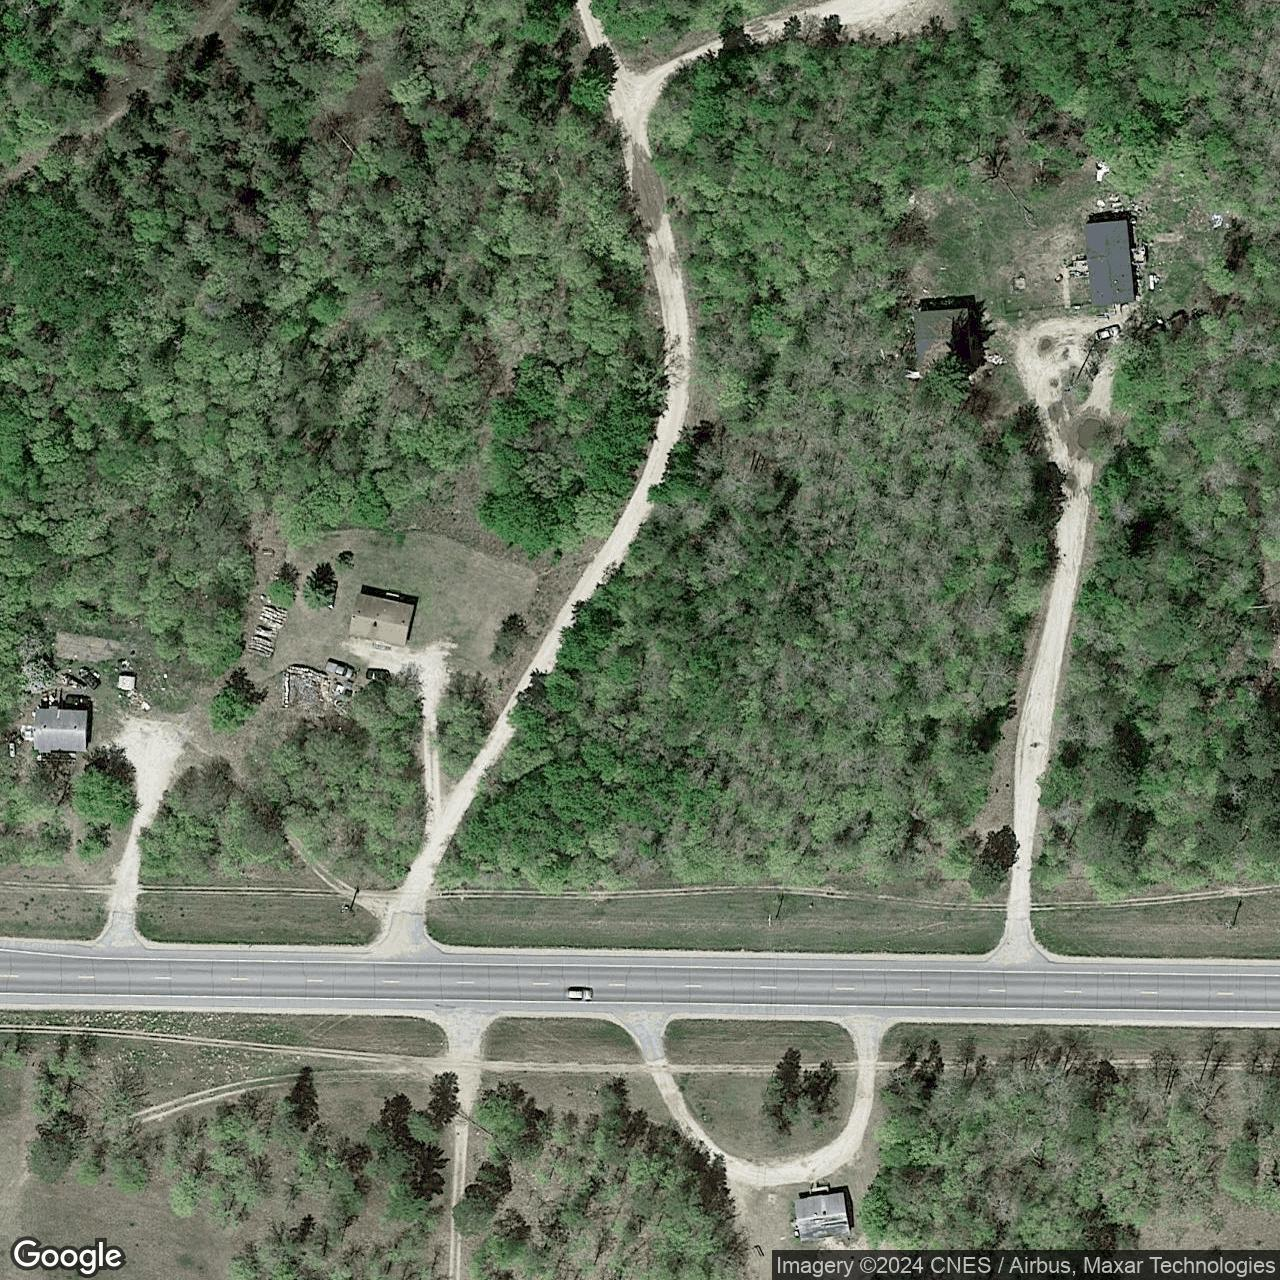Garage: (912, 306, 975, 372)
House: (1083, 218, 1136, 309), (347, 591, 417, 648), (791, 1190, 852, 1244), (32, 708, 89, 753)
Propane: (1148, 271, 1157, 293), (383, 588, 401, 600), (7, 740, 16, 758)
